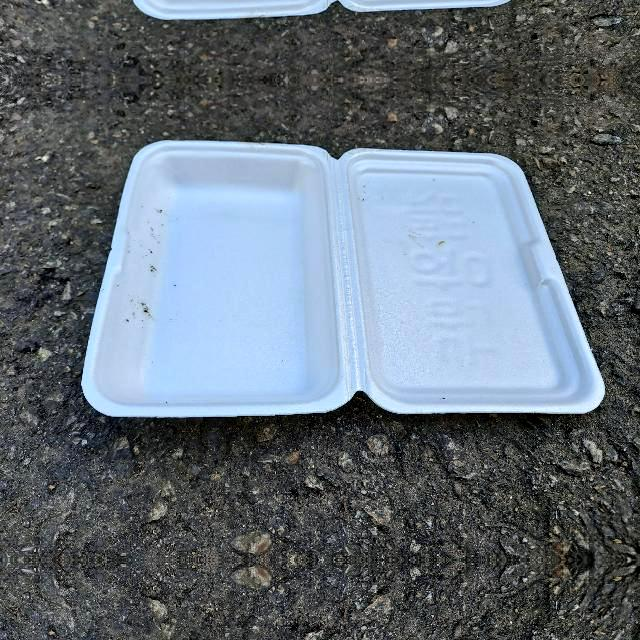Styrofoam: (80, 139, 604, 419), (82, 140, 605, 417)
